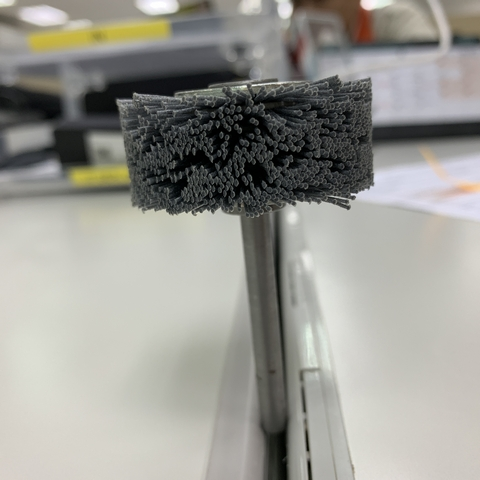Wheel Brush: (113, 65, 379, 423), (115, 77, 408, 297)
